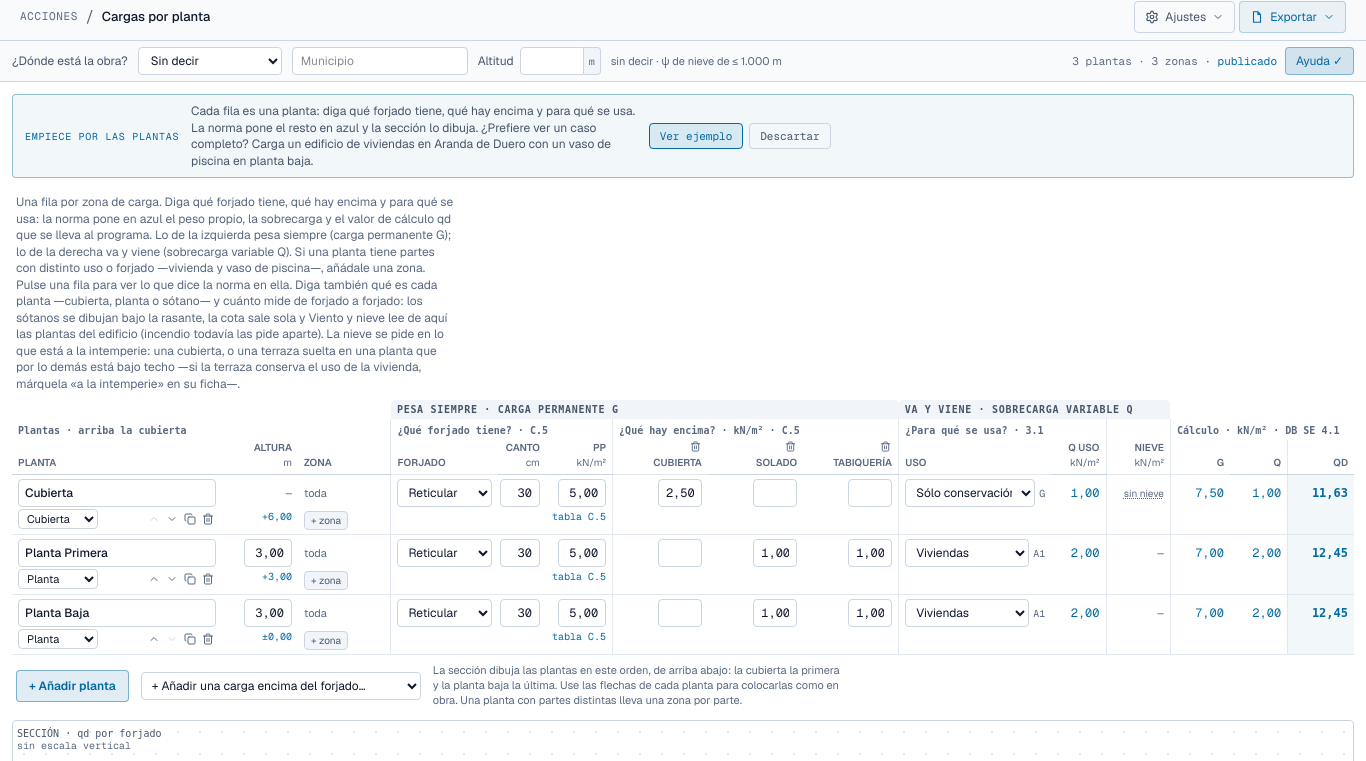
Test: Cargas por planta — la ficha de la fila › en ancho va debajo de la mesa, no entre las filas: abrirla no mueve las de abajo ni la sección
The image size is (1366, 761).
// «sin nieve» también la abre: es donde se elige la nieve.
Click the button "sin nieve": (1144, 493) [1124,486,1164,500]
(page scrolled)
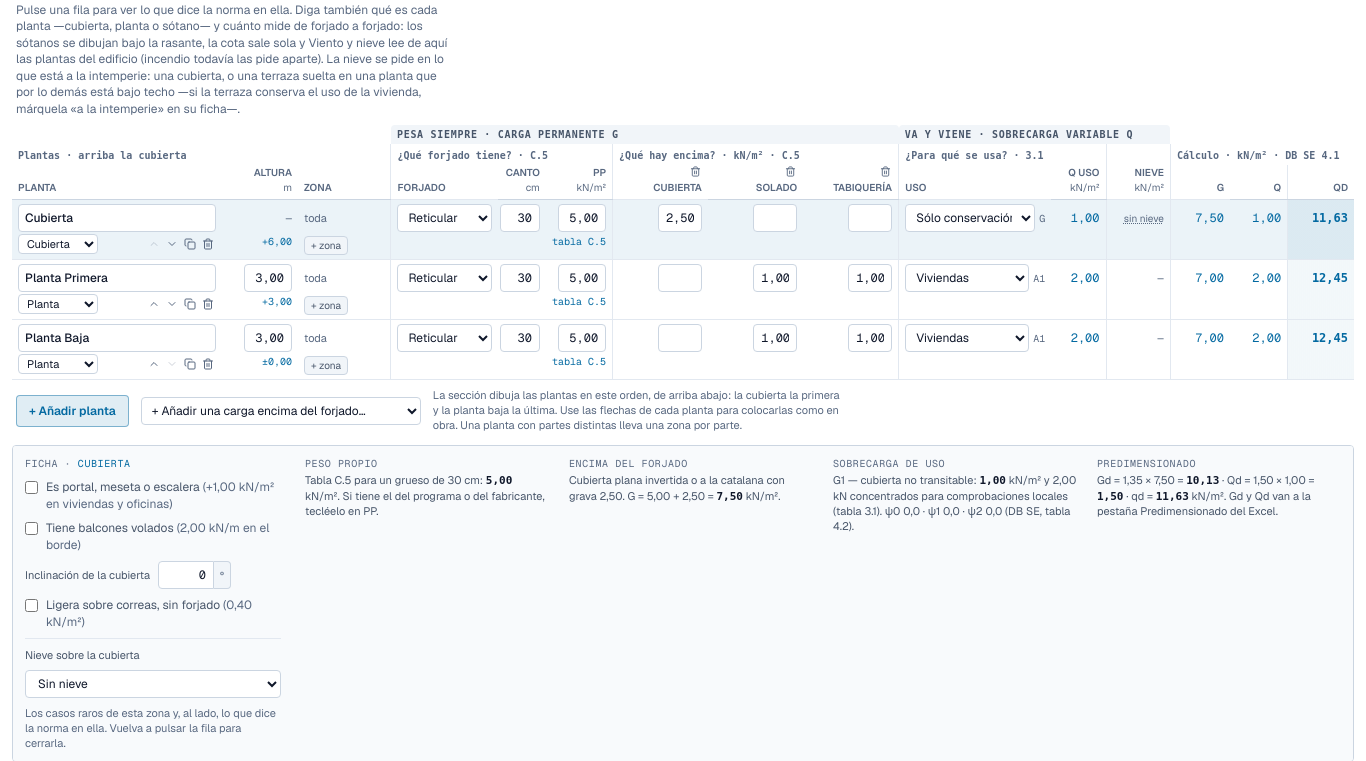
Expected: the dropdown named "Origen de la nieve de Cubierta" is shown, [25,670,281,698]
